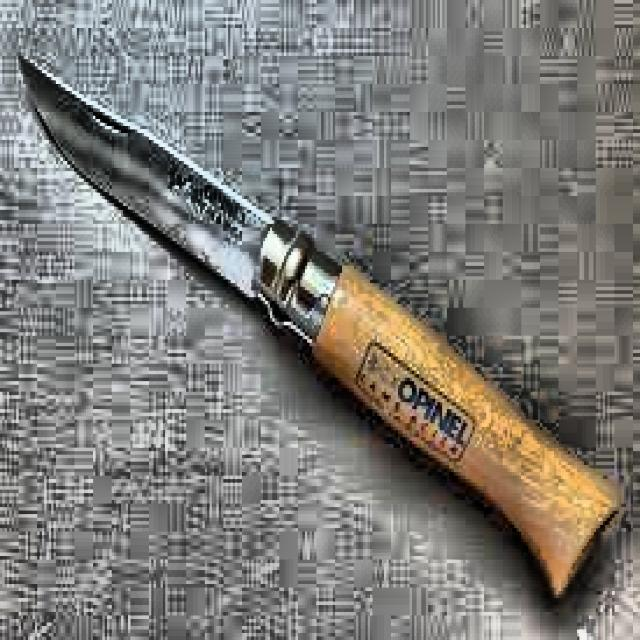knife: (19, 60, 621, 600)
